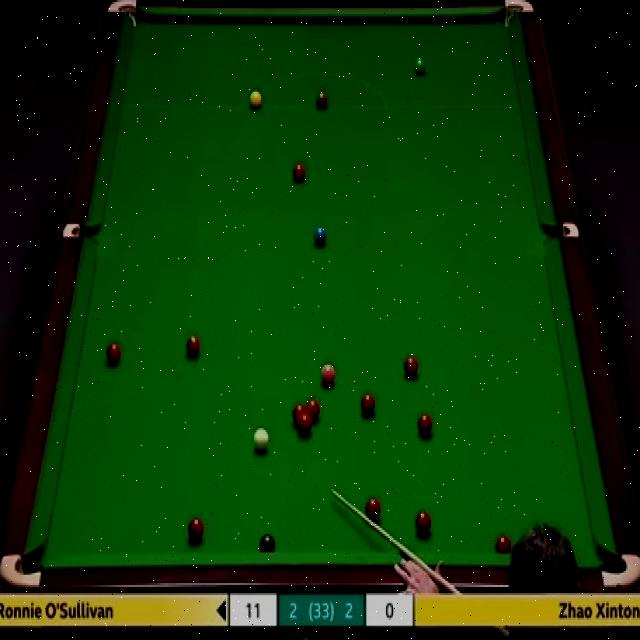black-ball: (259, 534, 276, 553)
blue-ball: (313, 224, 327, 248)
brown-ball: (314, 88, 328, 111)
green-ball: (412, 57, 427, 77)
pink-ball: (321, 359, 336, 387)
red-ball: (402, 354, 420, 383), (104, 340, 122, 368), (414, 510, 431, 538), (188, 516, 205, 542), (365, 496, 381, 523), (185, 333, 201, 360), (360, 392, 375, 418), (417, 411, 432, 436), (291, 160, 307, 183), (306, 400, 321, 424), (496, 534, 512, 555), (298, 416, 312, 436), (293, 403, 306, 424)
white-ball: (252, 424, 270, 457)
yellow-ball: (248, 89, 262, 109)
